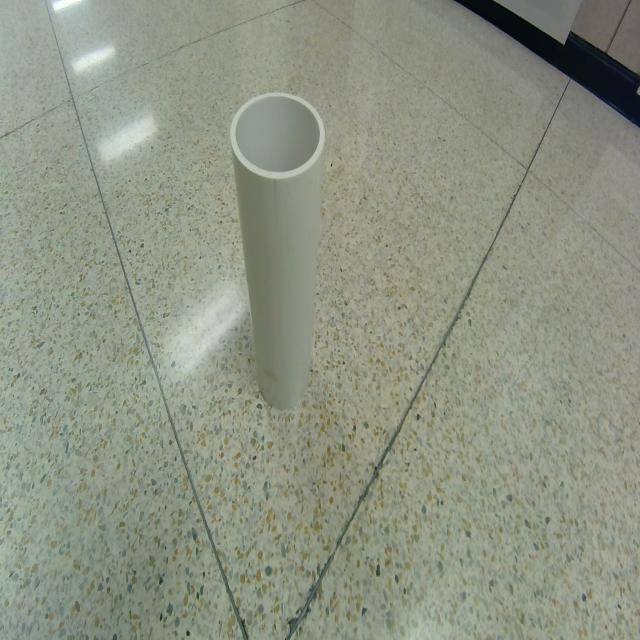coral: (230, 92, 325, 409)
